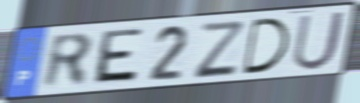2: (148, 24, 190, 82)
D: (241, 16, 292, 77)
E: (89, 26, 146, 86)
R: (41, 31, 96, 92)
U: (290, 9, 349, 72)
Z: (192, 19, 245, 80)
